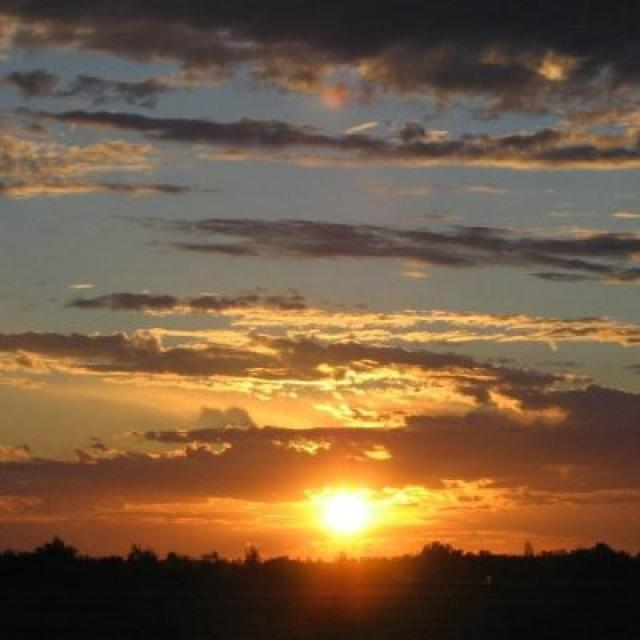Ac: (1, 1, 640, 507)
